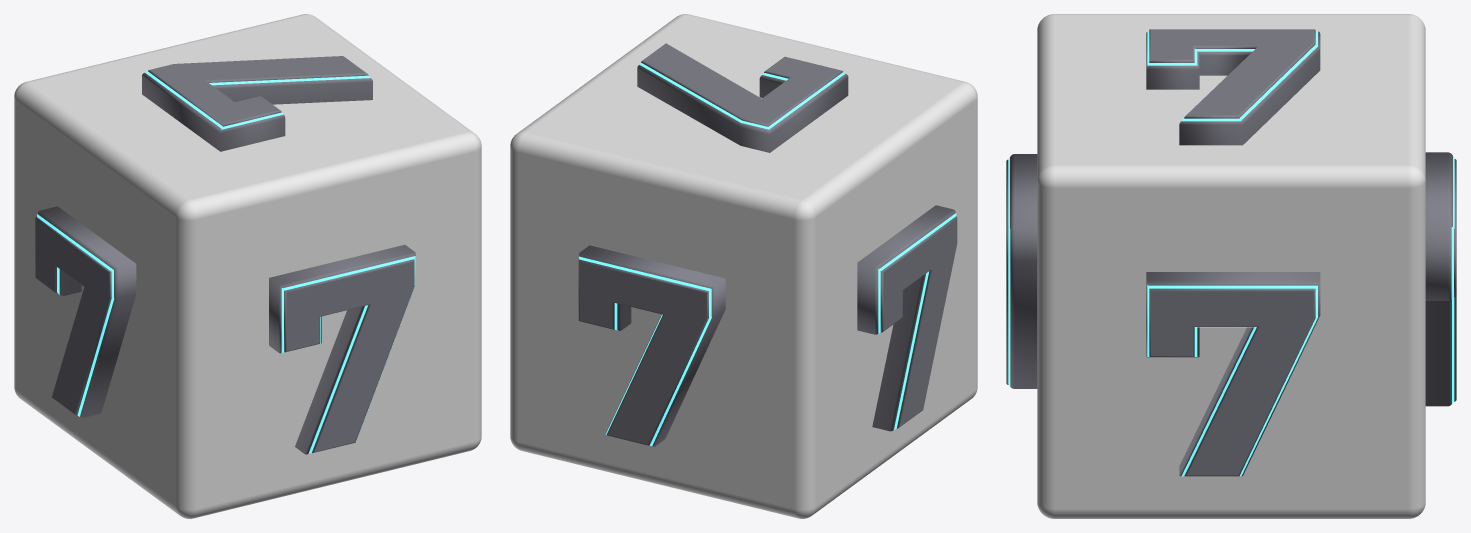
File: Number 7.fbx
The picture shows the model from 3 angles, left to right: view 1: azimuth 30°, elevation 25°; view 2: azimuth 150°, elevation 25°; view 3: azimuth 270°, elevation 25°; orthographic projection. The views are drawn at different scales.
Visible parts, largest first — view 1: Cube, N_7_smaller.001, N_7_smaller, N_7_smaller.004, N_7_side.004, N_7_side, N_7_side.001, N_7_border.001, N_7_border.004, N_7_border; view 2: Cube, N_7_smaller.003, N_7_smaller, N_7_side, N_7_smaller.004, N_7_side.004, N_7_side.003, N_7_border.003, N_7_border, N_7_border.004; view 3: Cube, N_7_smaller.002, N_7_smaller.004, N_7_side.003, N_7_side.001, N_7_side.004, N_7_side.002, N_7_border.002, N_7_border.004, N_7_smaller.003, N_7_smaller.001, N_7_border.003 (+1 smaller).
Boxes of the visible parts, x1=… form: Cube: x1=14, y1=14, x2=481, y2=518; N_7_smaller.001: x1=284, y1=259, x2=414, y2=453; N_7_smaller: x1=35, y1=216, x2=111, y2=415; N_7_smaller.004: x1=148, y1=56, x2=368, y2=126; N_7_side.004: x1=142, y1=72, x2=372, y2=151; N_7_side: x1=37, y1=206, x2=136, y2=417; N_7_side.001: x1=269, y1=244, x2=415, y2=454; N_7_border.001: x1=281, y1=256, x2=415, y2=453; N_7_border.004: x1=145, y1=71, x2=370, y2=129; N_7_border: x1=37, y1=214, x2=114, y2=416; Cube: x1=510, y1=14, x2=977, y2=518; N_7_smaller.003: x1=578, y1=259, x2=708, y2=445; N_7_smaller: x1=880, y1=216, x2=957, y2=428; N_7_side: x1=857, y1=205, x2=955, y2=431; N_7_smaller.004: x1=641, y1=43, x2=843, y2=126; N_7_side.004: x1=637, y1=65, x2=848, y2=152; N_7_side.003: x1=579, y1=245, x2=725, y2=446; N_7_border.003: x1=579, y1=256, x2=711, y2=446; N_7_border: x1=878, y1=213, x2=956, y2=429; N_7_border.004: x1=639, y1=63, x2=845, y2=129; Cube: x1=1037, y1=14, x2=1425, y2=518; N_7_smaller.002: x1=1149, y1=288, x2=1315, y2=476; N_7_smaller.004: x1=1149, y1=29, x2=1315, y2=118; N_7_side.003: x1=1425, y1=152, x2=1452, y2=406; N_7_side.001: x1=1010, y1=154, x2=1037, y2=388; N_7_side.004: x1=1146, y1=31, x2=1320, y2=145; N_7_side.002: x1=1146, y1=272, x2=1320, y2=476; N_7_border.002: x1=1147, y1=285, x2=1317, y2=476; N_7_border.004: x1=1147, y1=30, x2=1317, y2=121; N_7_smaller.003: x1=1454, y1=159, x2=1456, y2=401; N_7_smaller.001: x1=1006, y1=159, x2=1008, y2=384; N_7_border.003: x1=1451, y1=156, x2=1454, y2=403.
Bounding box in the file's own units: 232 × 232 × 232.
